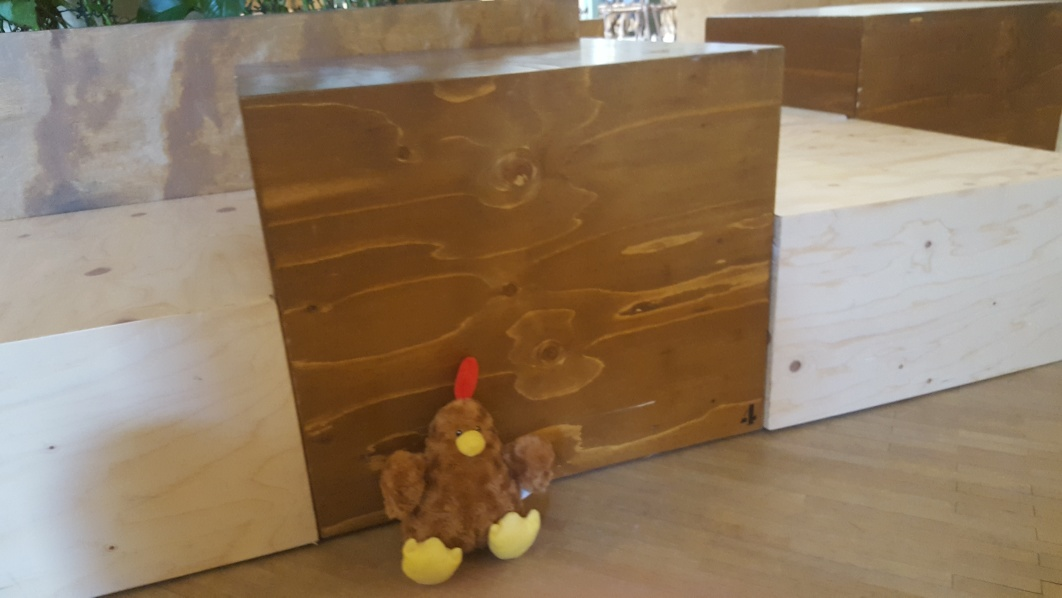chicken: (378, 354, 556, 584)
